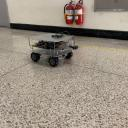cart: (28, 33, 75, 67)
